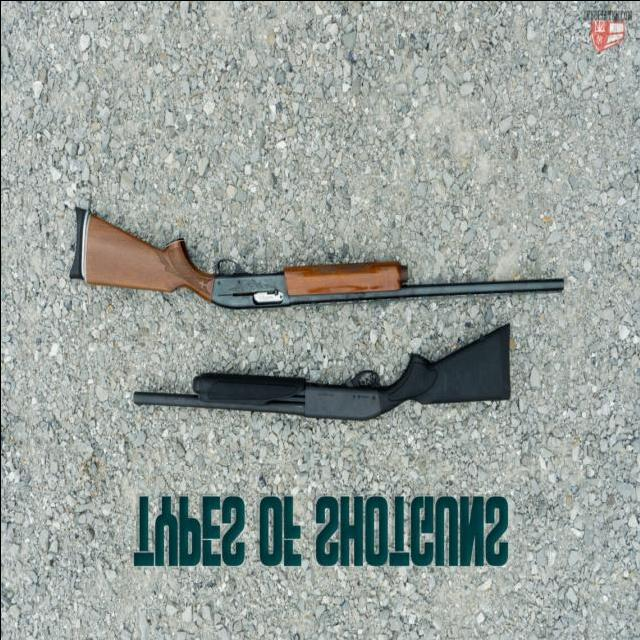shotgun: (46, 212, 586, 323), (121, 330, 518, 445)
